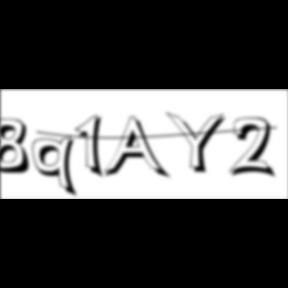1: (74, 114, 110, 182)
2: (230, 117, 280, 181)
8: (0, 117, 36, 176)
A: (104, 116, 172, 182)
Y: (166, 110, 232, 176)
q: (32, 135, 82, 200)
